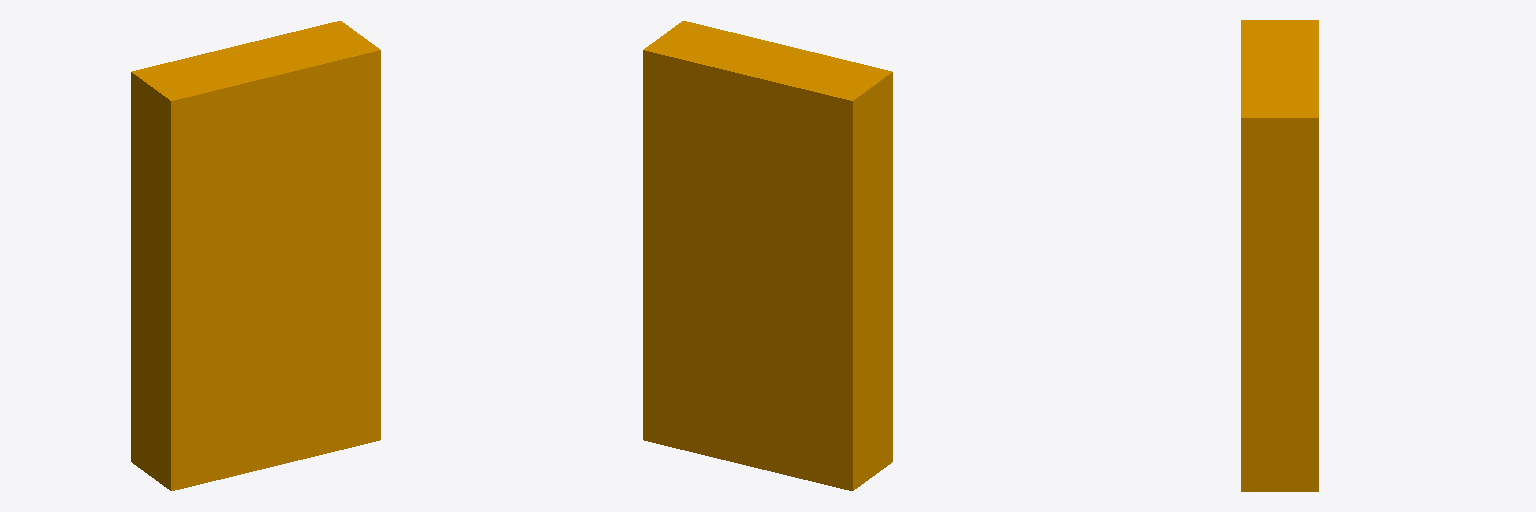
robot.urdf — candy2_model:
<robot name="candy2_model">
  <link name="candy2">
    <inertial>
      <mass value="0.1" />
      <!-- center of mass (com) is defined w.r.t. link local coordinate system -->
      <origin xyz="0 0 0.04" /> 
      <inertia  ixx="0.1" ixy="0.0"  ixz="0.0"  iyy="0.1"  iyz="0.0"  izz="0.1" />
    </inertial>
    <visual>
      <!-- visual origin is defined w.r.t. link local coordinate system -->
      <origin xyz="0 0 0.04" rpy="0 0 0" />
      <geometry>
        <box size="0.045 0.015 0.08"/>
      </geometry>
    </visual>
    <collision>
      <!-- collision origin is defined w.r.t. link local coordinate system -->
      <origin xyz="0 0 0.04" rpy="0 0 0" />
      <geometry>
        <box size="0.045 0.015 0.08"/>
      </geometry>
    </collision>
  </link>

  <gazebo reference="candy2">
    <material>Gazebo/Green</material>
    <turnGravityOff>false</turnGravityOff>
  </gazebo>
</robot>

--- Facts derived from the render (not from the file) ---
The picture shows the robot from 3 angles, left to right: view 1: azimuth 30°, elevation 25°; view 2: azimuth 150°, elevation 25°; view 3: azimuth 270°, elevation 25°; orthographic projection.
Robot: candy2_model — 1 links, 0 joints (none); root link candy2; default pose: every joint at zero.
Links seen in each view (by area): view 1: candy2; view 2: candy2; view 3: candy2.
Boxes of the visible links, bbox=[...] form: candy2: bbox=[131, 21, 380, 490]; candy2: bbox=[643, 21, 892, 490]; candy2: bbox=[1241, 20, 1318, 491].
Bounding box of the posed robot: 0.045 × 0.015 × 0.08 m (x, y, z).
Geometry: primitives only (box / cylinder / sphere), no mesh files.